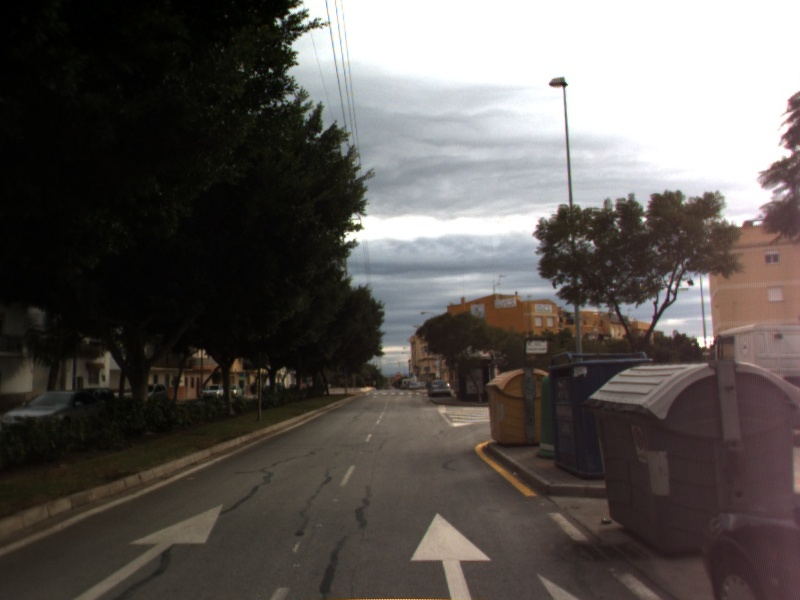STRAIGHT: (64, 500, 226, 600), (407, 510, 496, 600)
